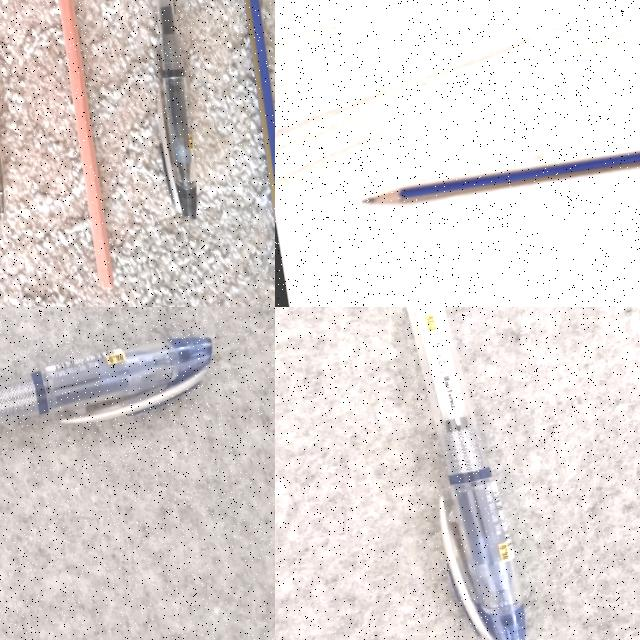pen: (407, 307, 525, 639), (123, 0, 214, 220), (0, 337, 210, 423)
pencil: (206, 0, 275, 242), (59, 0, 114, 289), (362, 152, 639, 204)
